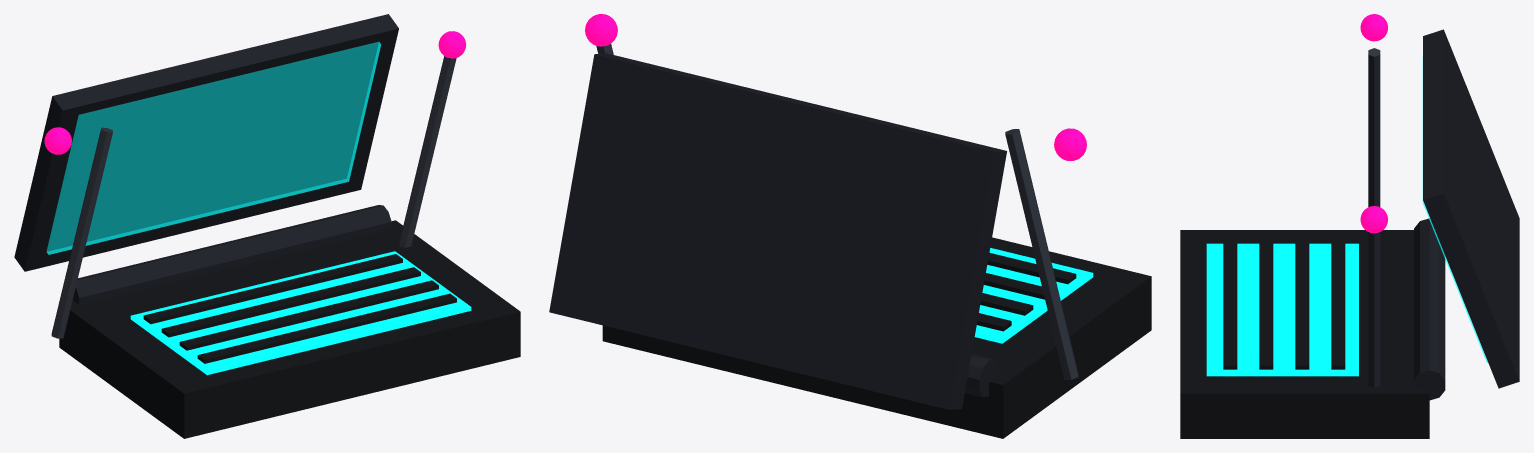
Rendered from Tool_CyberDeck.fbx.
3 views of the same model, side by side, from view 1: azimuth 30°, elevation 25°; view 2: azimuth 150°, elevation 25°; view 3: azimuth 270°, elevation 25° (orthographic). The views are drawn at different scales.
Visible parts, largest first — view 1: Tool_CyberDeck__DarkMetal, Tool_CyberDeck__CarbonFiber, Tool_CyberDeck__HoloCyan, Tool_CyberDeck__NeonCyan, Tool_CyberDeck__SteelPanel, Tool_CyberDeck__NeonCrimson; view 2: Tool_CyberDeck__DarkMetal, Tool_CyberDeck__CarbonFiber, Tool_CyberDeck__SteelPanel, Tool_CyberDeck__NeonCyan, Tool_CyberDeck__NeonCrimson; view 3: Tool_CyberDeck__CarbonFiber, Tool_CyberDeck__DarkMetal, Tool_CyberDeck__NeonCyan, Tool_CyberDeck__SteelPanel, Tool_CyberDeck__NeonCrimson, Tool_CyberDeck__HoloCyan.
Boxes of the visible parts, x1=… form: Tool_CyberDeck__DarkMetal: x1=14, y1=14, x2=398, y2=304; Tool_CyberDeck__CarbonFiber: x1=59, y1=220, x2=520, y2=438; Tool_CyberDeck__HoloCyan: x1=46, y1=41, x2=381, y2=254; Tool_CyberDeck__NeonCyan: x1=130, y1=251, x2=471, y2=375; Tool_CyberDeck__SteelPanel: x1=51, y1=56, x2=456, y2=338; Tool_CyberDeck__NeonCrimson: x1=44, y1=31, x2=466, y2=154; Tool_CyberDeck__DarkMetal: x1=549, y1=53, x2=1006, y2=409; Tool_CyberDeck__CarbonFiber: x1=602, y1=237, x2=1151, y2=438; Tool_CyberDeck__SteelPanel: x1=596, y1=44, x2=1078, y2=379; Tool_CyberDeck__NeonCyan: x1=974, y1=248, x2=1093, y2=343; Tool_CyberDeck__NeonCrimson: x1=585, y1=14, x2=1086, y2=160; Tool_CyberDeck__CarbonFiber: x1=1180, y1=230, x2=1429, y2=438; Tool_CyberDeck__DarkMetal: x1=1414, y1=29, x2=1519, y2=400; Tool_CyberDeck__NeonCyan: x1=1206, y1=243, x2=1358, y2=376; Tool_CyberDeck__SteelPanel: x1=1368, y1=48, x2=1380, y2=387; Tool_CyberDeck__NeonCrimson: x1=1360, y1=14, x2=1387, y2=233; Tool_CyberDeck__HoloCyan: x1=1422, y1=56, x2=1487, y2=362.
Size of the model in its own units: 1.74 by 0.98 by 1.22.
